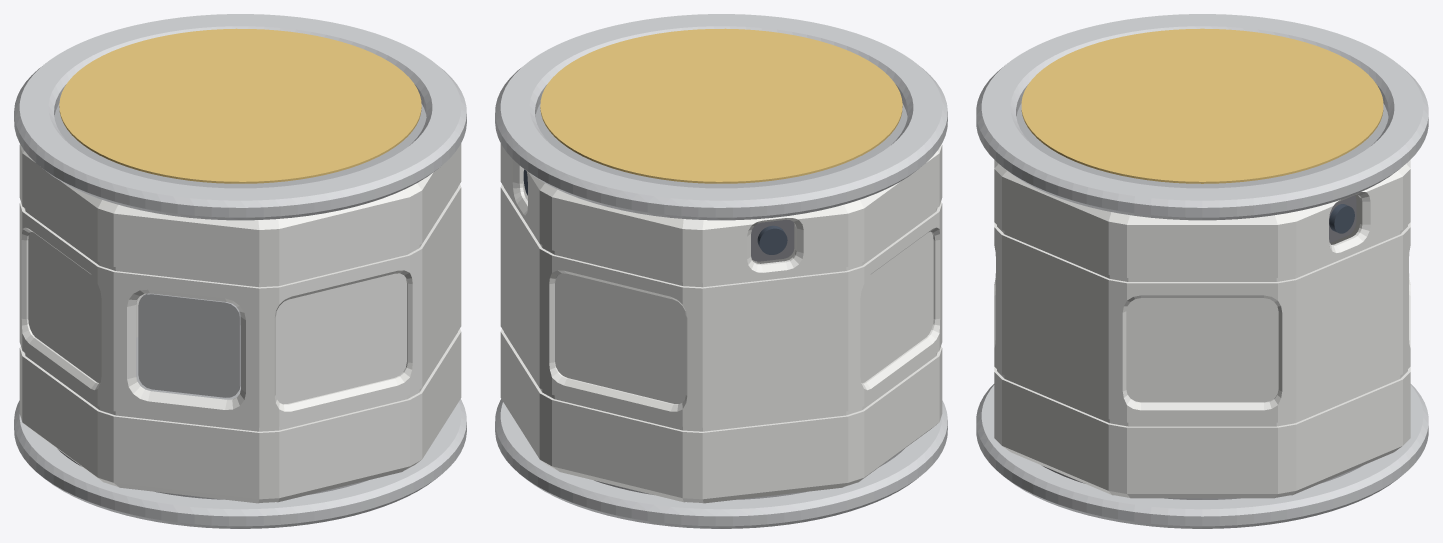
File: ax_cmd_10_probe_bus.glb
3 renders of one model, left to right at view 1: azimuth 30°, elevation 25°; view 2: azimuth 150°, elevation 25°; view 3: azimuth 270°, elevation 25°, orthographic.
Parts seen in each view (by area): view 1: shell, mli_top_deck, interface_rings, patch_antenna, decks; view 2: shell, mli_top_deck, interface_rings, decks, sensor_liners, star_tracker_lenses; view 3: shell, mli_top_deck, interface_rings, decks, star_tracker_lenses.
Part boxes in pixels (x1,y1,x2,y2): shell: [19, 143, 461, 503]; mli_top_deck: [59, 28, 421, 183]; interface_rings: [14, 14, 466, 528]; patch_antenna: [138, 293, 240, 397]; decks: [54, 103, 426, 499]; shell: [500, 143, 942, 503]; mli_top_deck: [540, 28, 902, 183]; interface_rings: [495, 14, 947, 528]; decks: [535, 103, 907, 499]; sensor_liners: [751, 219, 794, 261]; star_tracker_lenses: [523, 169, 787, 254]; shell: [994, 160, 1410, 498]; mli_top_deck: [1021, 28, 1383, 183]; interface_rings: [976, 14, 1428, 528]; decks: [1016, 103, 1388, 499]; star_tracker_lenses: [1329, 204, 1354, 233].
Bounding box in the file's own units: 1.25 × 1.01 × 1.25.
